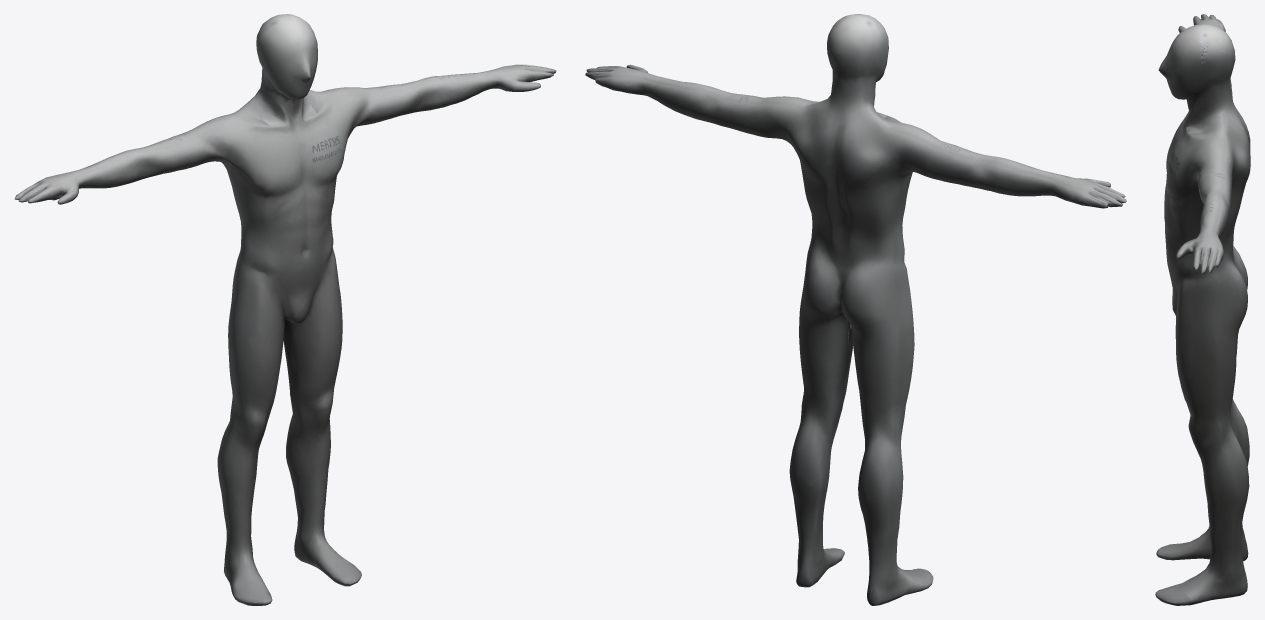
Rendered from AS05_PlayerDummy.fbx.
3 renders of one model, left to right at view 1: azimuth 30°, elevation 25°; view 2: azimuth 150°, elevation 25°; view 3: azimuth 270°, elevation 25°, orthographic. The views are drawn at different scales.
Visible parts, largest first — view 1: texture_mapping; view 2: texture_mapping; view 3: texture_mapping.
Part boxes in pixels (x1=…): texture_mapping: x1=14, y1=14, x2=556, y2=605; texture_mapping: x1=585, y1=14, x2=1126, y2=605; texture_mapping: x1=1155, y1=14, x2=1250, y2=605.
Size of the model in its own units: 0.9957 by 0.1557 by 0.9978.
1 material, 1 textured.
